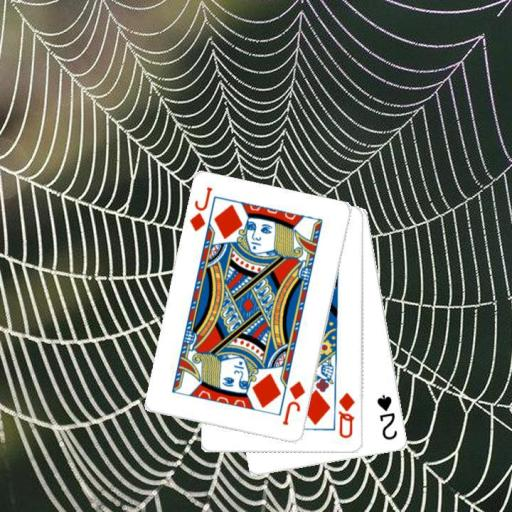2S: (374, 391, 400, 442)
JD: (186, 184, 214, 233), (280, 379, 307, 428)
QD: (336, 390, 357, 440)
